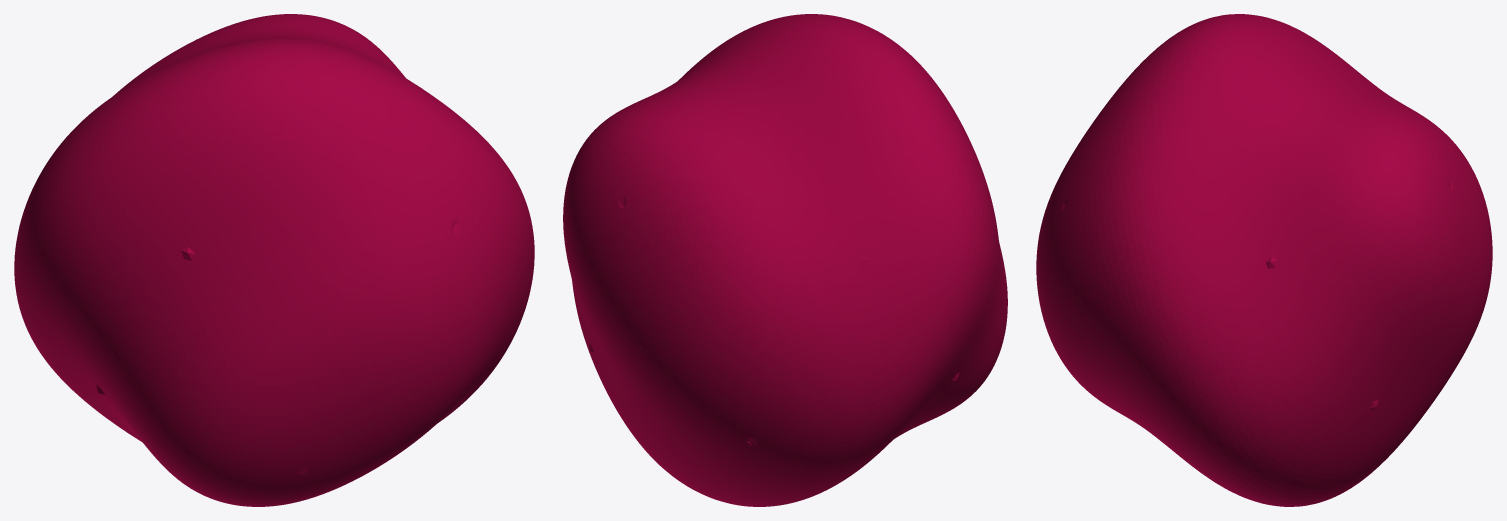
File: Blobbie-03.dae
3 renders of one model, left to right at view 1: azimuth 30°, elevation 25°; view 2: azimuth 150°, elevation 25°; view 3: azimuth 270°, elevation 25°, orthographic. The views are drawn at different scales.
Visible parts, largest first — view 1: Blobbie; view 2: Blobbie; view 3: Blobbie.
Part boxes in pixels (x1,y1,x2,y2): Blobbie: (14,14,534,506); Blobbie: (563,14,1007,506); Blobbie: (1036,14,1492,506).
Bounding box in the file's own units: 2.07 × 2.02 × 2.11.
